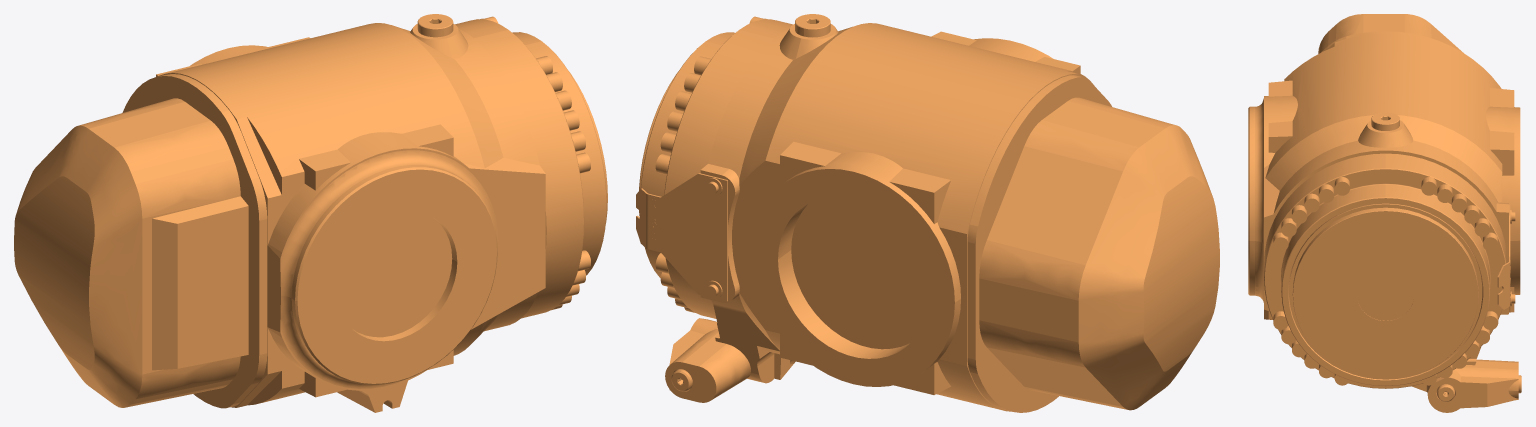
3 renders of one model, left to right at view 1: azimuth 30°, elevation 25°; view 2: azimuth 150°, elevation 25°; view 3: azimuth 270°, elevation 25°, orthographic. The views are drawn at different scales.
Parts seen in each view (by area): view 1: mesh_0; view 2: mesh_0; view 3: mesh_0.
Boxes of the visible parts, box(x1,y1,x2,y2) form: mesh_0: box(14, 14, 607, 412); mesh_0: box(636, 14, 1219, 412); mesh_0: box(1248, 14, 1521, 412).
Size of the model in its own units: 0.302 by 0.1941 by 0.181.
